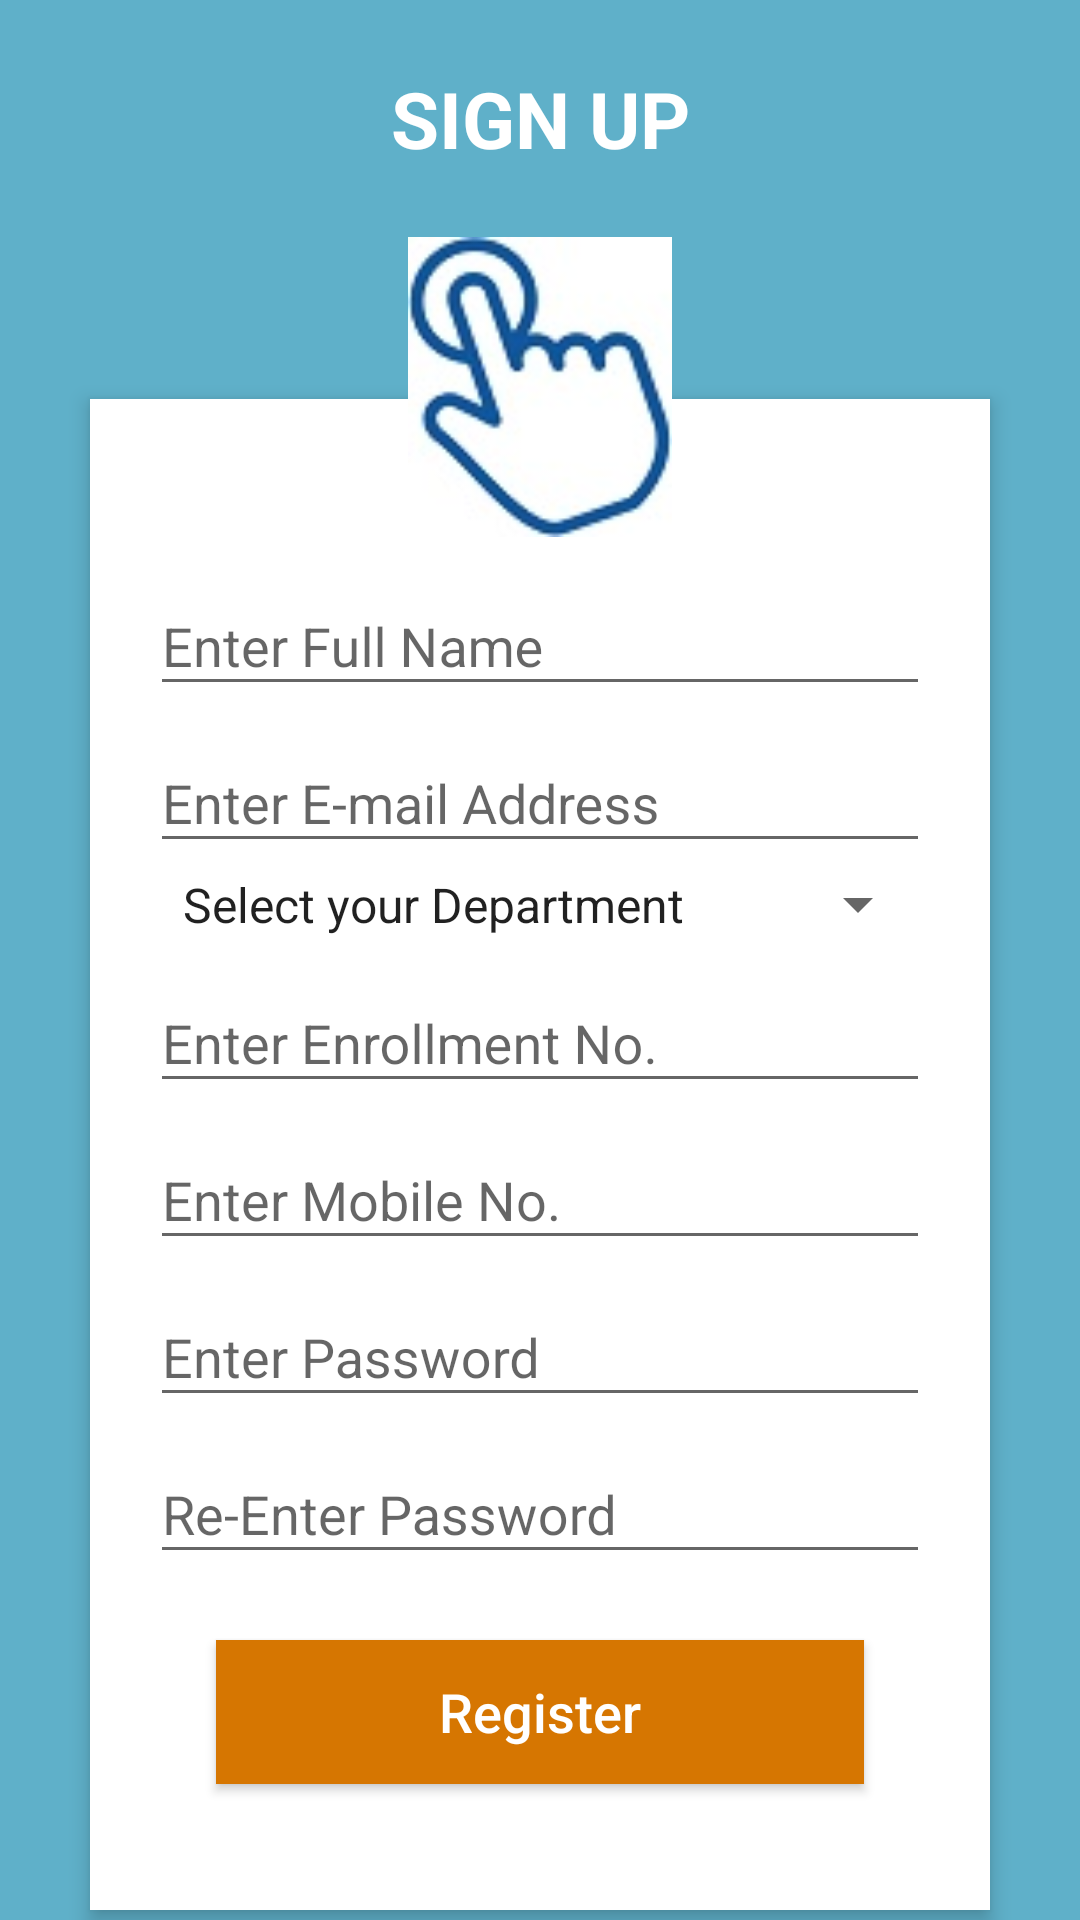

Named icons in this screenshot (1080x1920) and their centers, [x,y]:
choose: [540,387]
